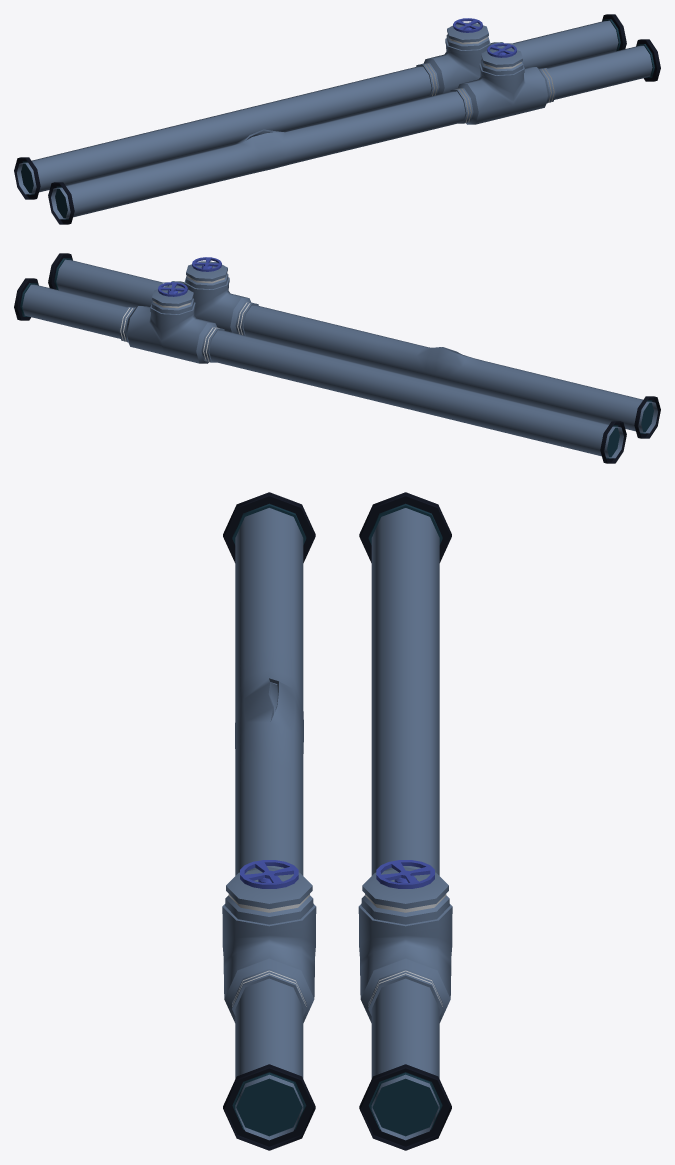
File: PipeComplexSmall_A_07.fbx
3 views of the same model, one above another, from view 1: azimuth 30°, elevation 25°; view 2: azimuth 150°, elevation 25°; view 3: azimuth 270°, elevation 25° (orthographic). The views are drawn at different scales.
Parts seen in each view (by area): view 1: PipeComplexSmall_A_07.001; view 2: PipeComplexSmall_A_07.001; view 3: PipeComplexSmall_A_07.001.
Part boxes in pixels (x1,y1,x2,y2): PipeComplexSmall_A_07.001: (14, 14, 660, 224); PipeComplexSmall_A_07.001: (14, 253, 660, 463); PipeComplexSmall_A_07.001: (222, 492, 452, 1150).
Size of the model in its own units: 2 by 0.2185 by 0.3378.
